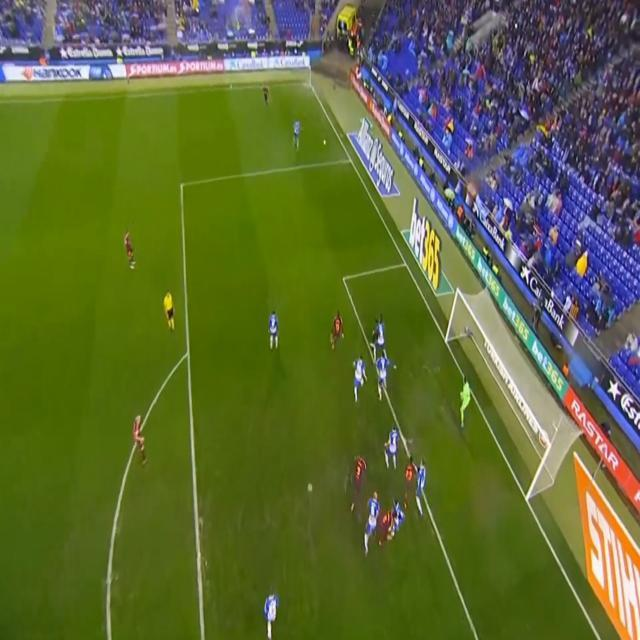ball: (321, 137, 328, 148)
goalkeeper: (454, 370, 474, 430)
player: (348, 449, 372, 519), (407, 455, 432, 519), (363, 489, 386, 556), (259, 584, 285, 640), (400, 454, 423, 516), (130, 410, 151, 468), (386, 421, 406, 474), (351, 352, 369, 404), (388, 494, 406, 546), (329, 309, 349, 351), (266, 308, 283, 356), (372, 313, 389, 361), (375, 351, 390, 403), (123, 229, 140, 273), (292, 117, 305, 156), (262, 84, 273, 106)
referee: (161, 286, 179, 337)
